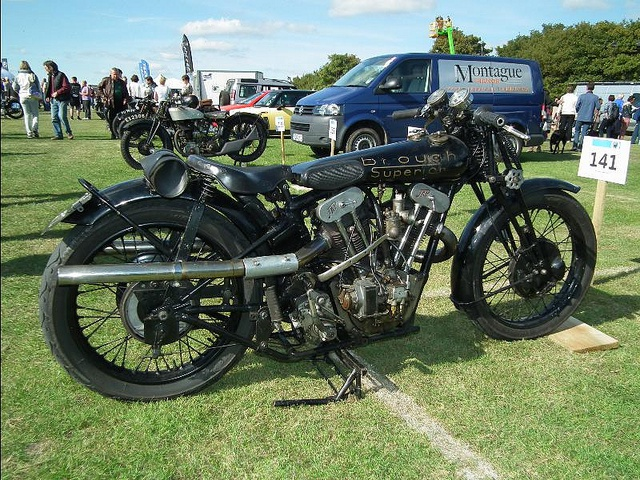non-vehicle: (37, 85, 595, 414), (122, 93, 270, 168), (117, 98, 158, 138), (1, 87, 22, 118)
